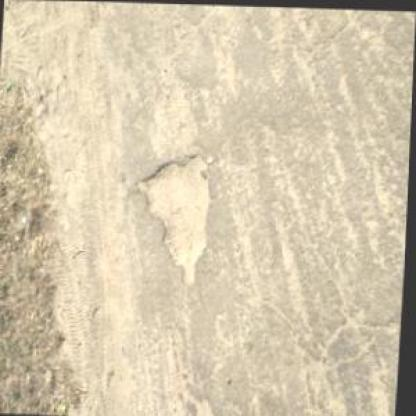pothole: (128, 147, 218, 286)
